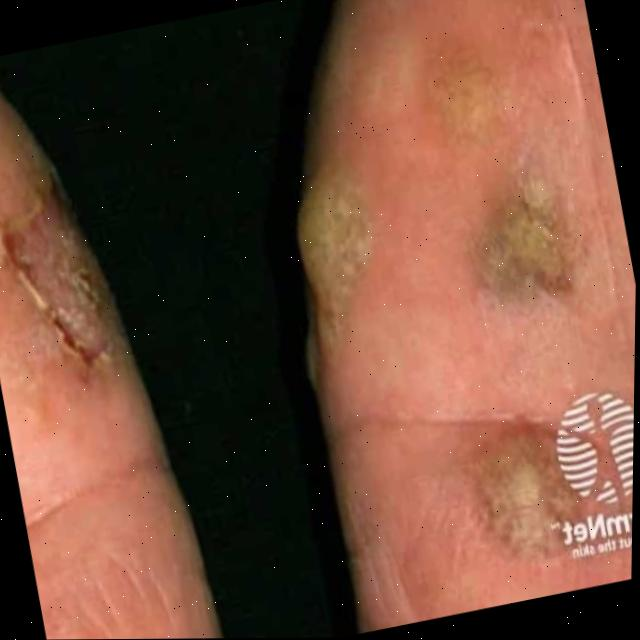Eczema: (298, 84, 632, 576), (0, 186, 111, 418)
